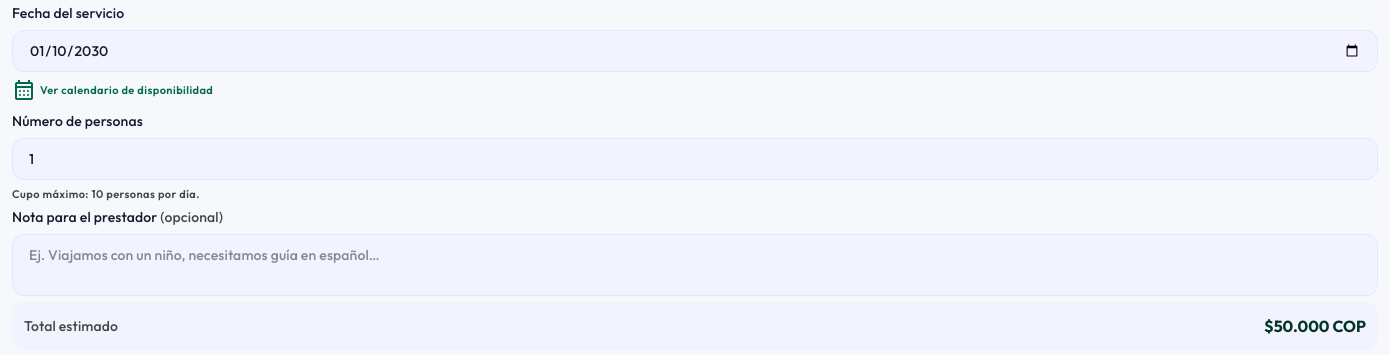
Test: CamposReserva › calcula el total estimado según las personas
Expected: the text "$50.000 COP" is shown, [1264,314,1366,338]
Replace the text in the number field labelled "Número de personas Cupo máximo: 10 personas por día." with "3" at (695, 159), box [12,138,1378,180]
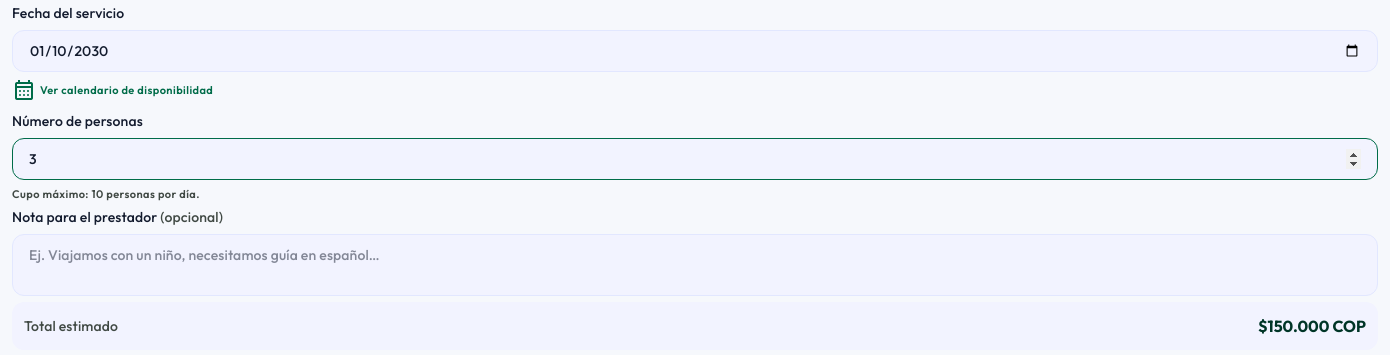
Now the text "$150.000 COP" is shown, box [1258,314,1366,338]
